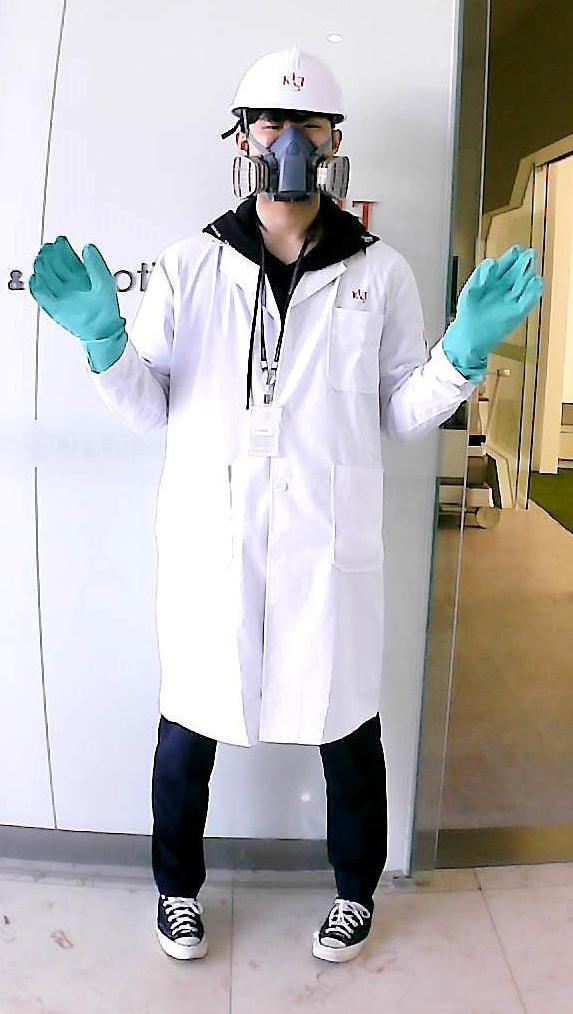lab_coat: (156, 250, 422, 729)
